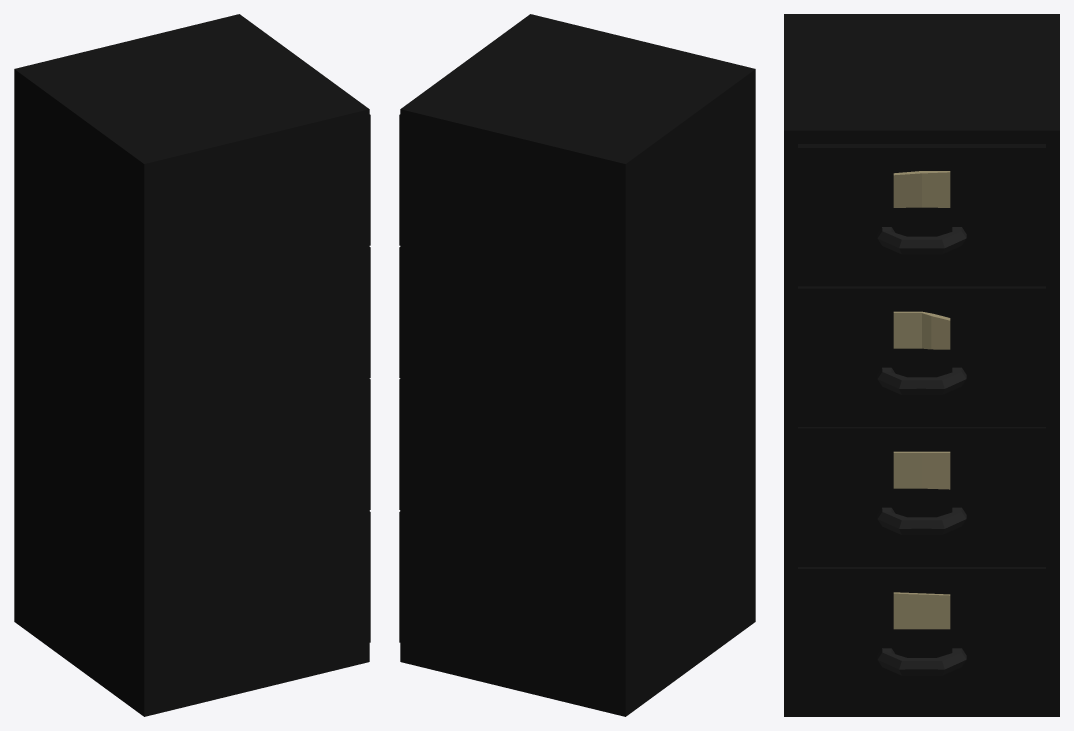
The model's file is cabinet.glb.
3 views of the same model, side by side, from view 1: azimuth 30°, elevation 25°; view 2: azimuth 150°, elevation 25°; view 3: azimuth 270°, elevation 25° (orthographic). The views are drawn at different scales.
Parts seen in each view (by area): view 1: cabinet; view 2: cabinet; view 3: cabinet.
Boxes of the visible parts, left/top/right/bottom form: cabinet: left=14, top=14, right=370, bottom=716; cabinet: left=399, top=14, right=755, bottom=716; cabinet: left=784, top=14, right=1059, bottom=716.
Size of the model in its own units: 0.6395 by 1.3 by 0.5545.
